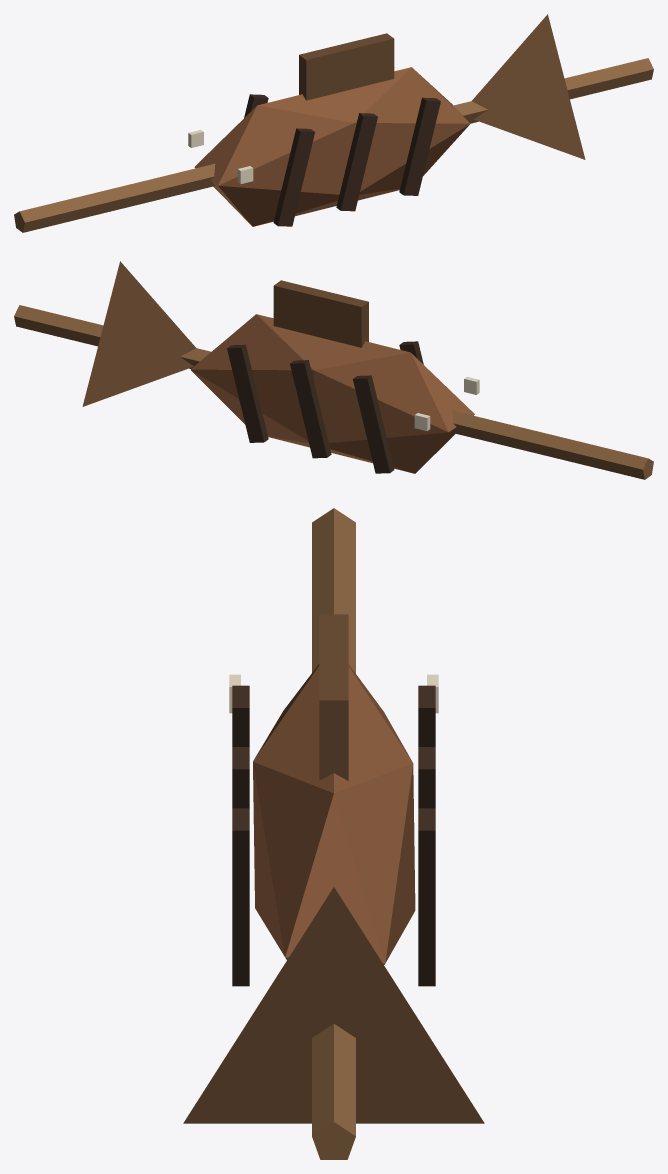
The model's file is grilled_fish.glb.
3 renders of one model, top to bottom at view 1: azimuth 30°, elevation 25°; view 2: azimuth 150°, elevation 25°; view 3: azimuth 270°, elevation 25°, orthographic. The views are drawn at different scales.
Parts seen in each view (by area): view 1: grilled_fish; view 2: grilled_fish; view 3: grilled_fish.
Part boxes in pixels (x1,y1,x2,y2): grilled_fish: (14,14,653,232); grilled_fish: (14,261,653,479); grilled_fish: (183,508,484,1159).
Size of the model in its own units: 0.5 by 0.1195 by 0.1039.
